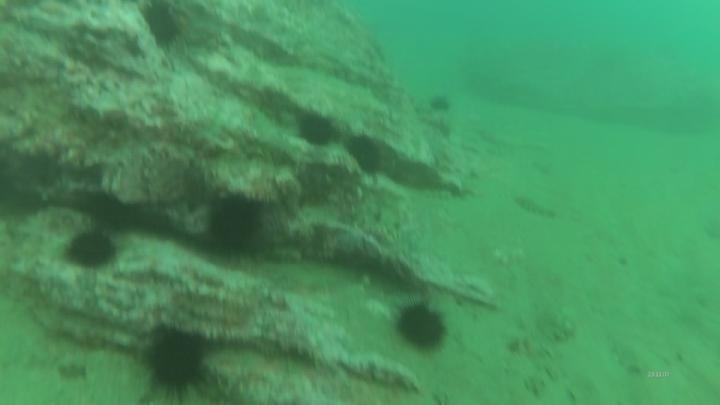echinus: (136, 320, 215, 402), (201, 189, 271, 261), (391, 298, 451, 356), (63, 226, 119, 272), (137, 1, 184, 51), (343, 132, 386, 178), (294, 109, 339, 149), (426, 92, 454, 116)
